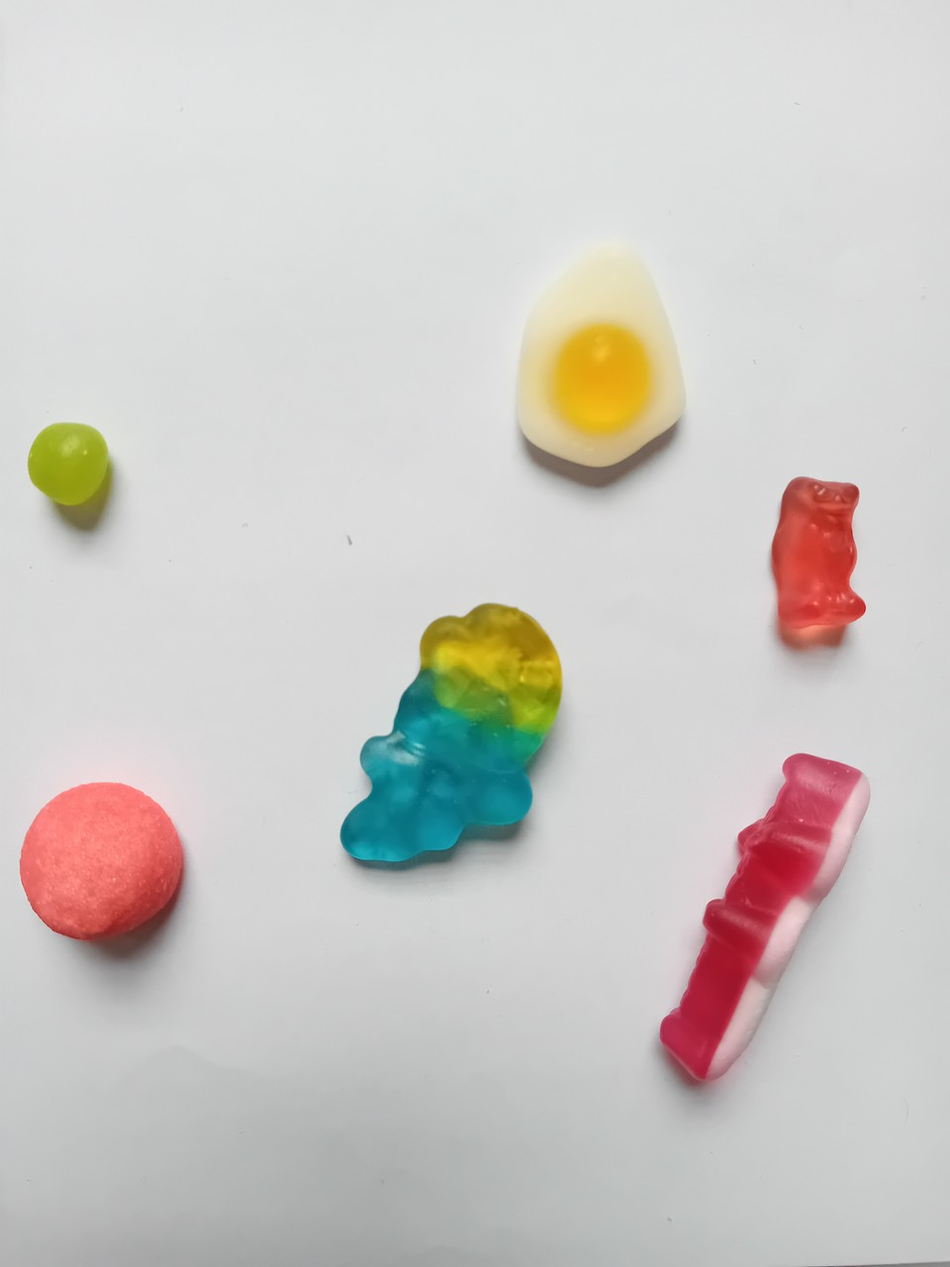crocodile_rouge: (655, 741, 873, 1100)
dragibus_vert: (18, 412, 115, 511)
oeuf_oeuf: (497, 223, 695, 472)
ourson_orangeFonce: (766, 461, 871, 635)
schtroumpf_bleu-jaune: (333, 592, 565, 876)
tagada_fraise: (14, 777, 189, 950)
